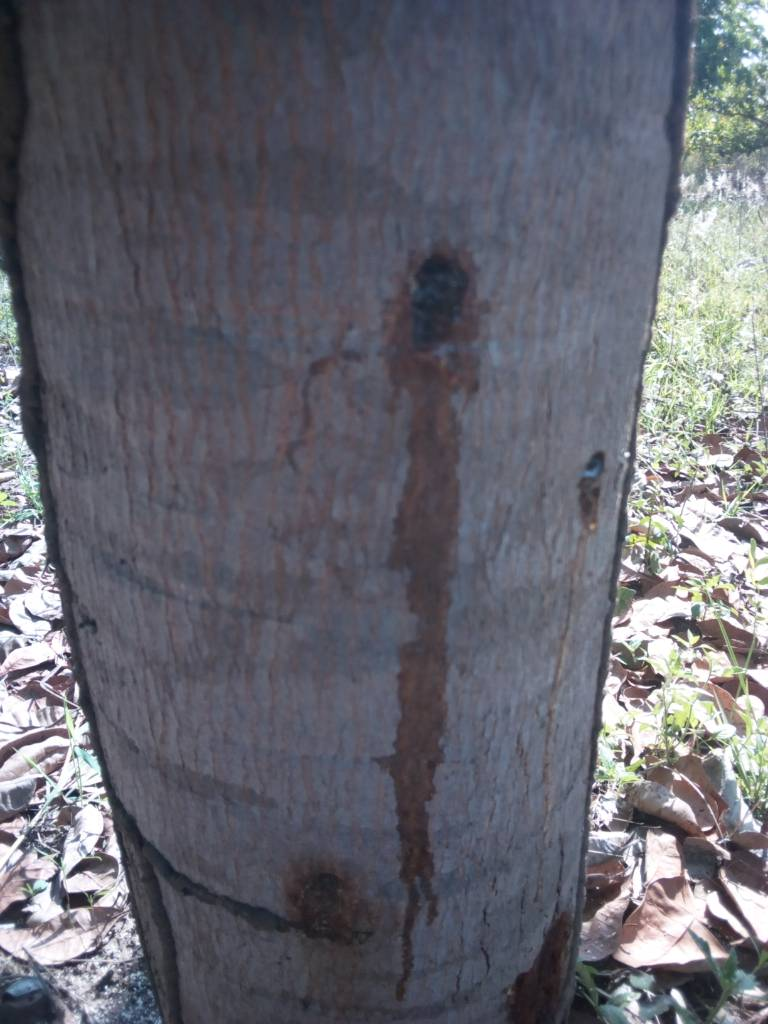Apate terebrans: (371, 241, 519, 368)
